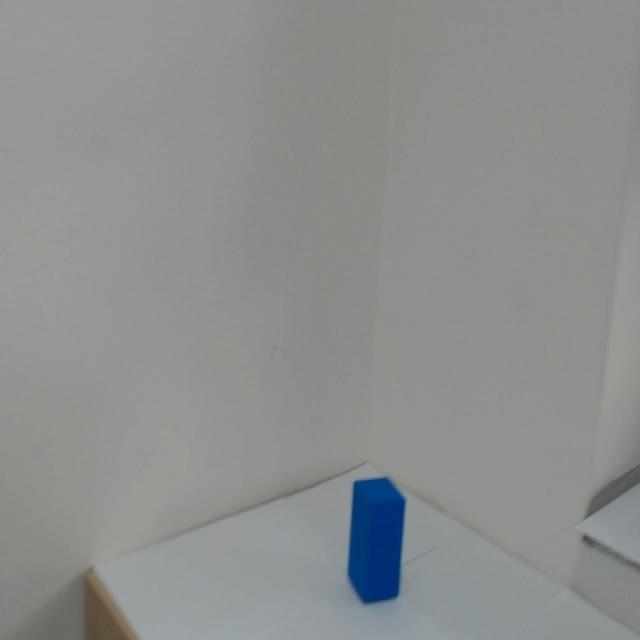cube: (341, 445, 410, 637)
